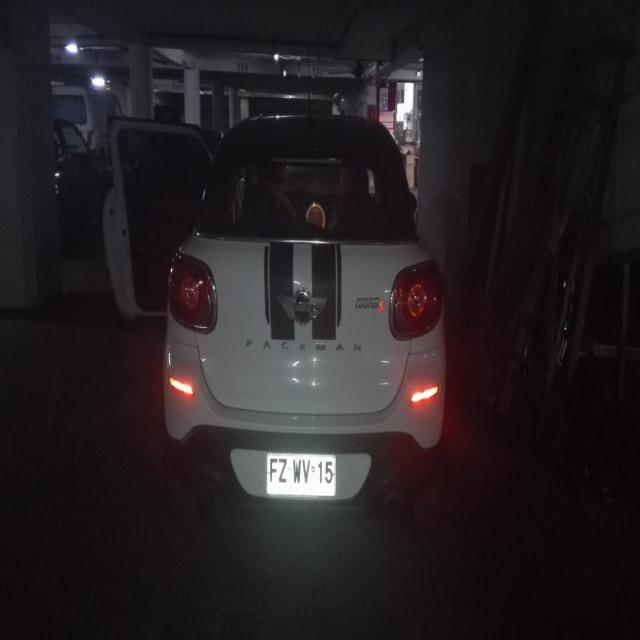patente: (265, 452, 337, 497)
